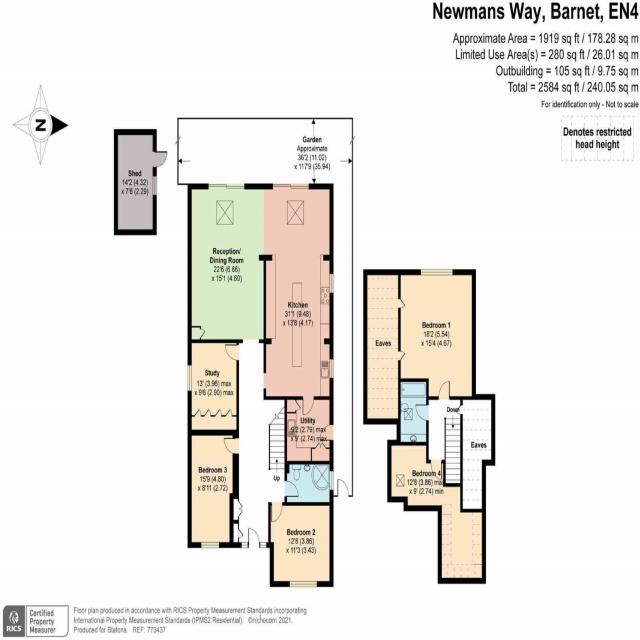DOOR: (223, 436, 239, 455), (224, 342, 239, 361), (415, 402, 429, 422), (270, 502, 283, 523), (431, 459, 443, 480), (438, 380, 450, 400), (302, 397, 314, 416)
ROOM: (187, 184, 334, 416), (387, 438, 486, 584), (398, 269, 476, 400), (188, 429, 239, 548), (268, 502, 334, 587)
SLIDING DOOR: (207, 181, 246, 190), (272, 182, 309, 190)
WINDOW: (420, 269, 453, 276), (288, 581, 317, 588), (200, 542, 220, 550), (187, 363, 192, 393), (152, 174, 157, 196), (329, 357, 334, 379), (329, 469, 334, 491), (329, 273, 334, 294), (240, 542, 249, 549), (260, 542, 267, 549)
